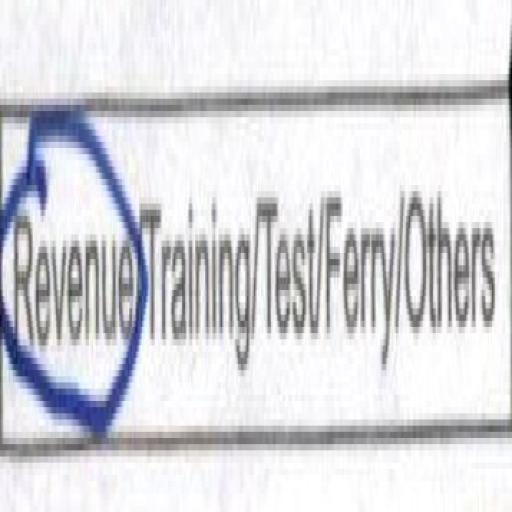check: (1, 1, 140, 499)
